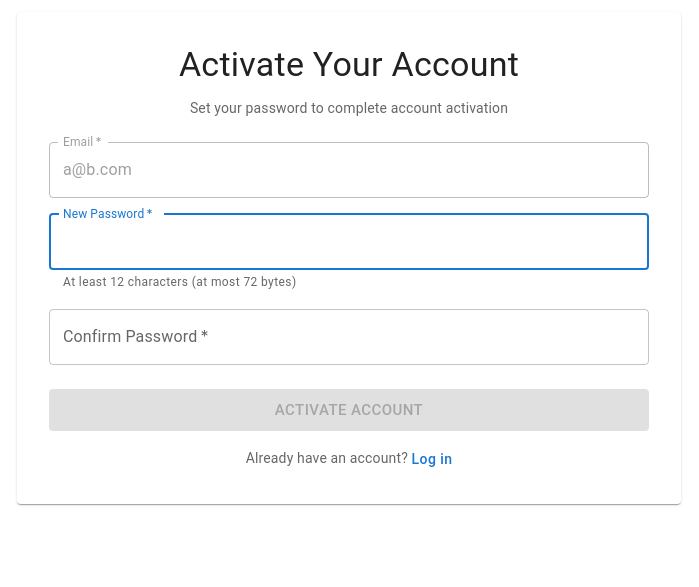
ActivateAccount — form validation › shows error when password is shorter than 12 characters
11 characters: accepted by the old 8-character rule, refused now.
Type "password123" into the password field labelled "New Password *" at (349, 242), box [49, 214, 649, 270]
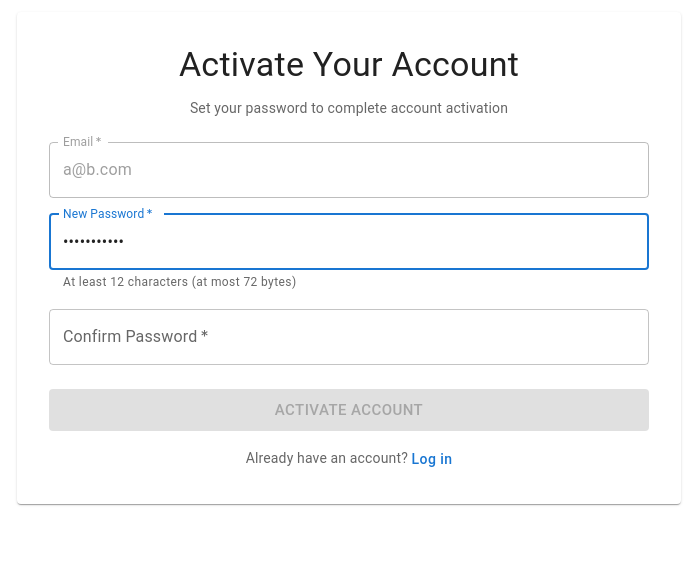
Type "password123" into the password field labelled "Confirm Password *" at (349, 337), box [49, 309, 649, 365]
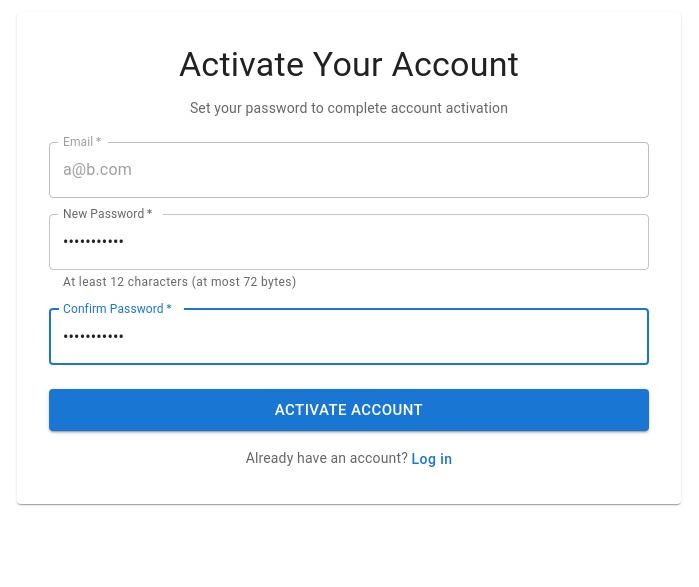
Click the button "Activate Account" at (349, 410), box [49, 389, 649, 431]
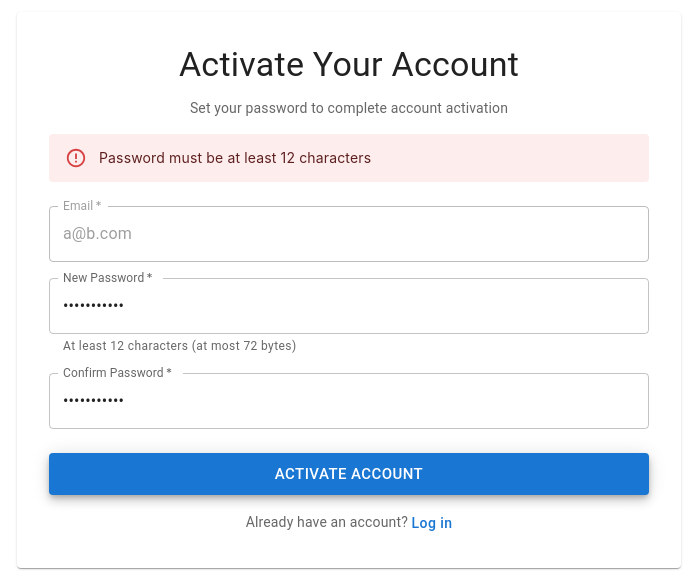
Result: the text "Password must be at least 12 characters" is shown at [99, 149, 371, 166]
